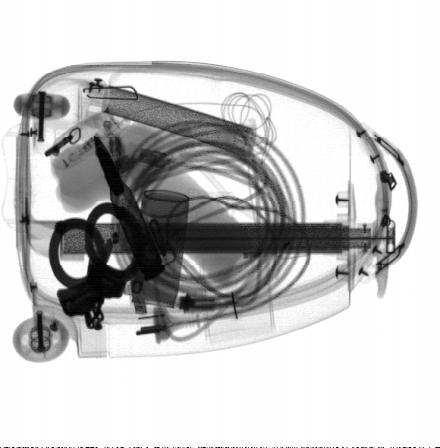Bullet: (95, 134, 167, 282)
HandCuffs: (48, 200, 145, 332)
